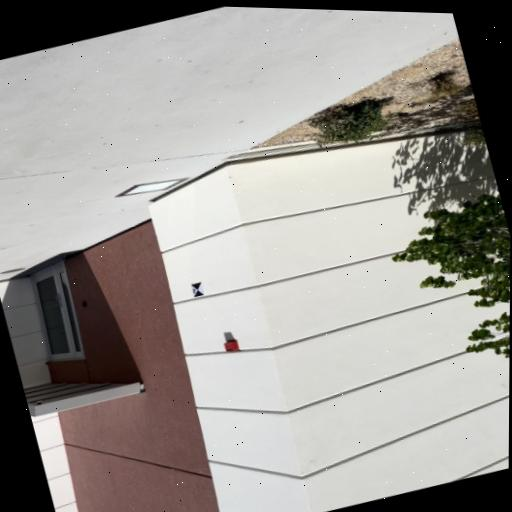target2: (189, 281, 205, 297)
